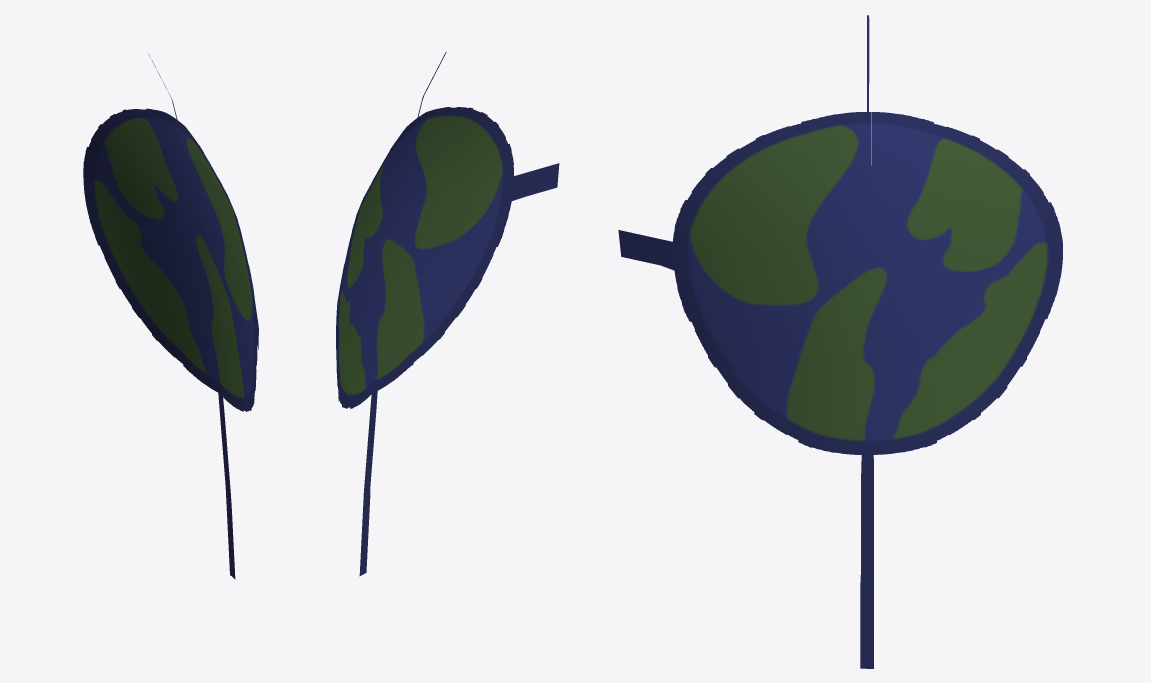
File: Planet.fbx
3 renders of one model, left to right at view 1: azimuth 30°, elevation 25°; view 2: azimuth 150°, elevation 25°; view 3: azimuth 270°, elevation 25°, orthographic. The views are drawn at different scales.
Parts seen in each view (by area): view 1: Planet; view 2: Planet; view 3: Planet.
Part boxes in pixels (x1=…): Planet: x1=83, y1=54, x2=258, y2=579; Planet: x1=336, y1=52, x2=559, y2=576; Planet: x1=618, y1=15, x2=1062, y2=668.
Size of the model in its own units: 15 by 71.33 by 56.36.
